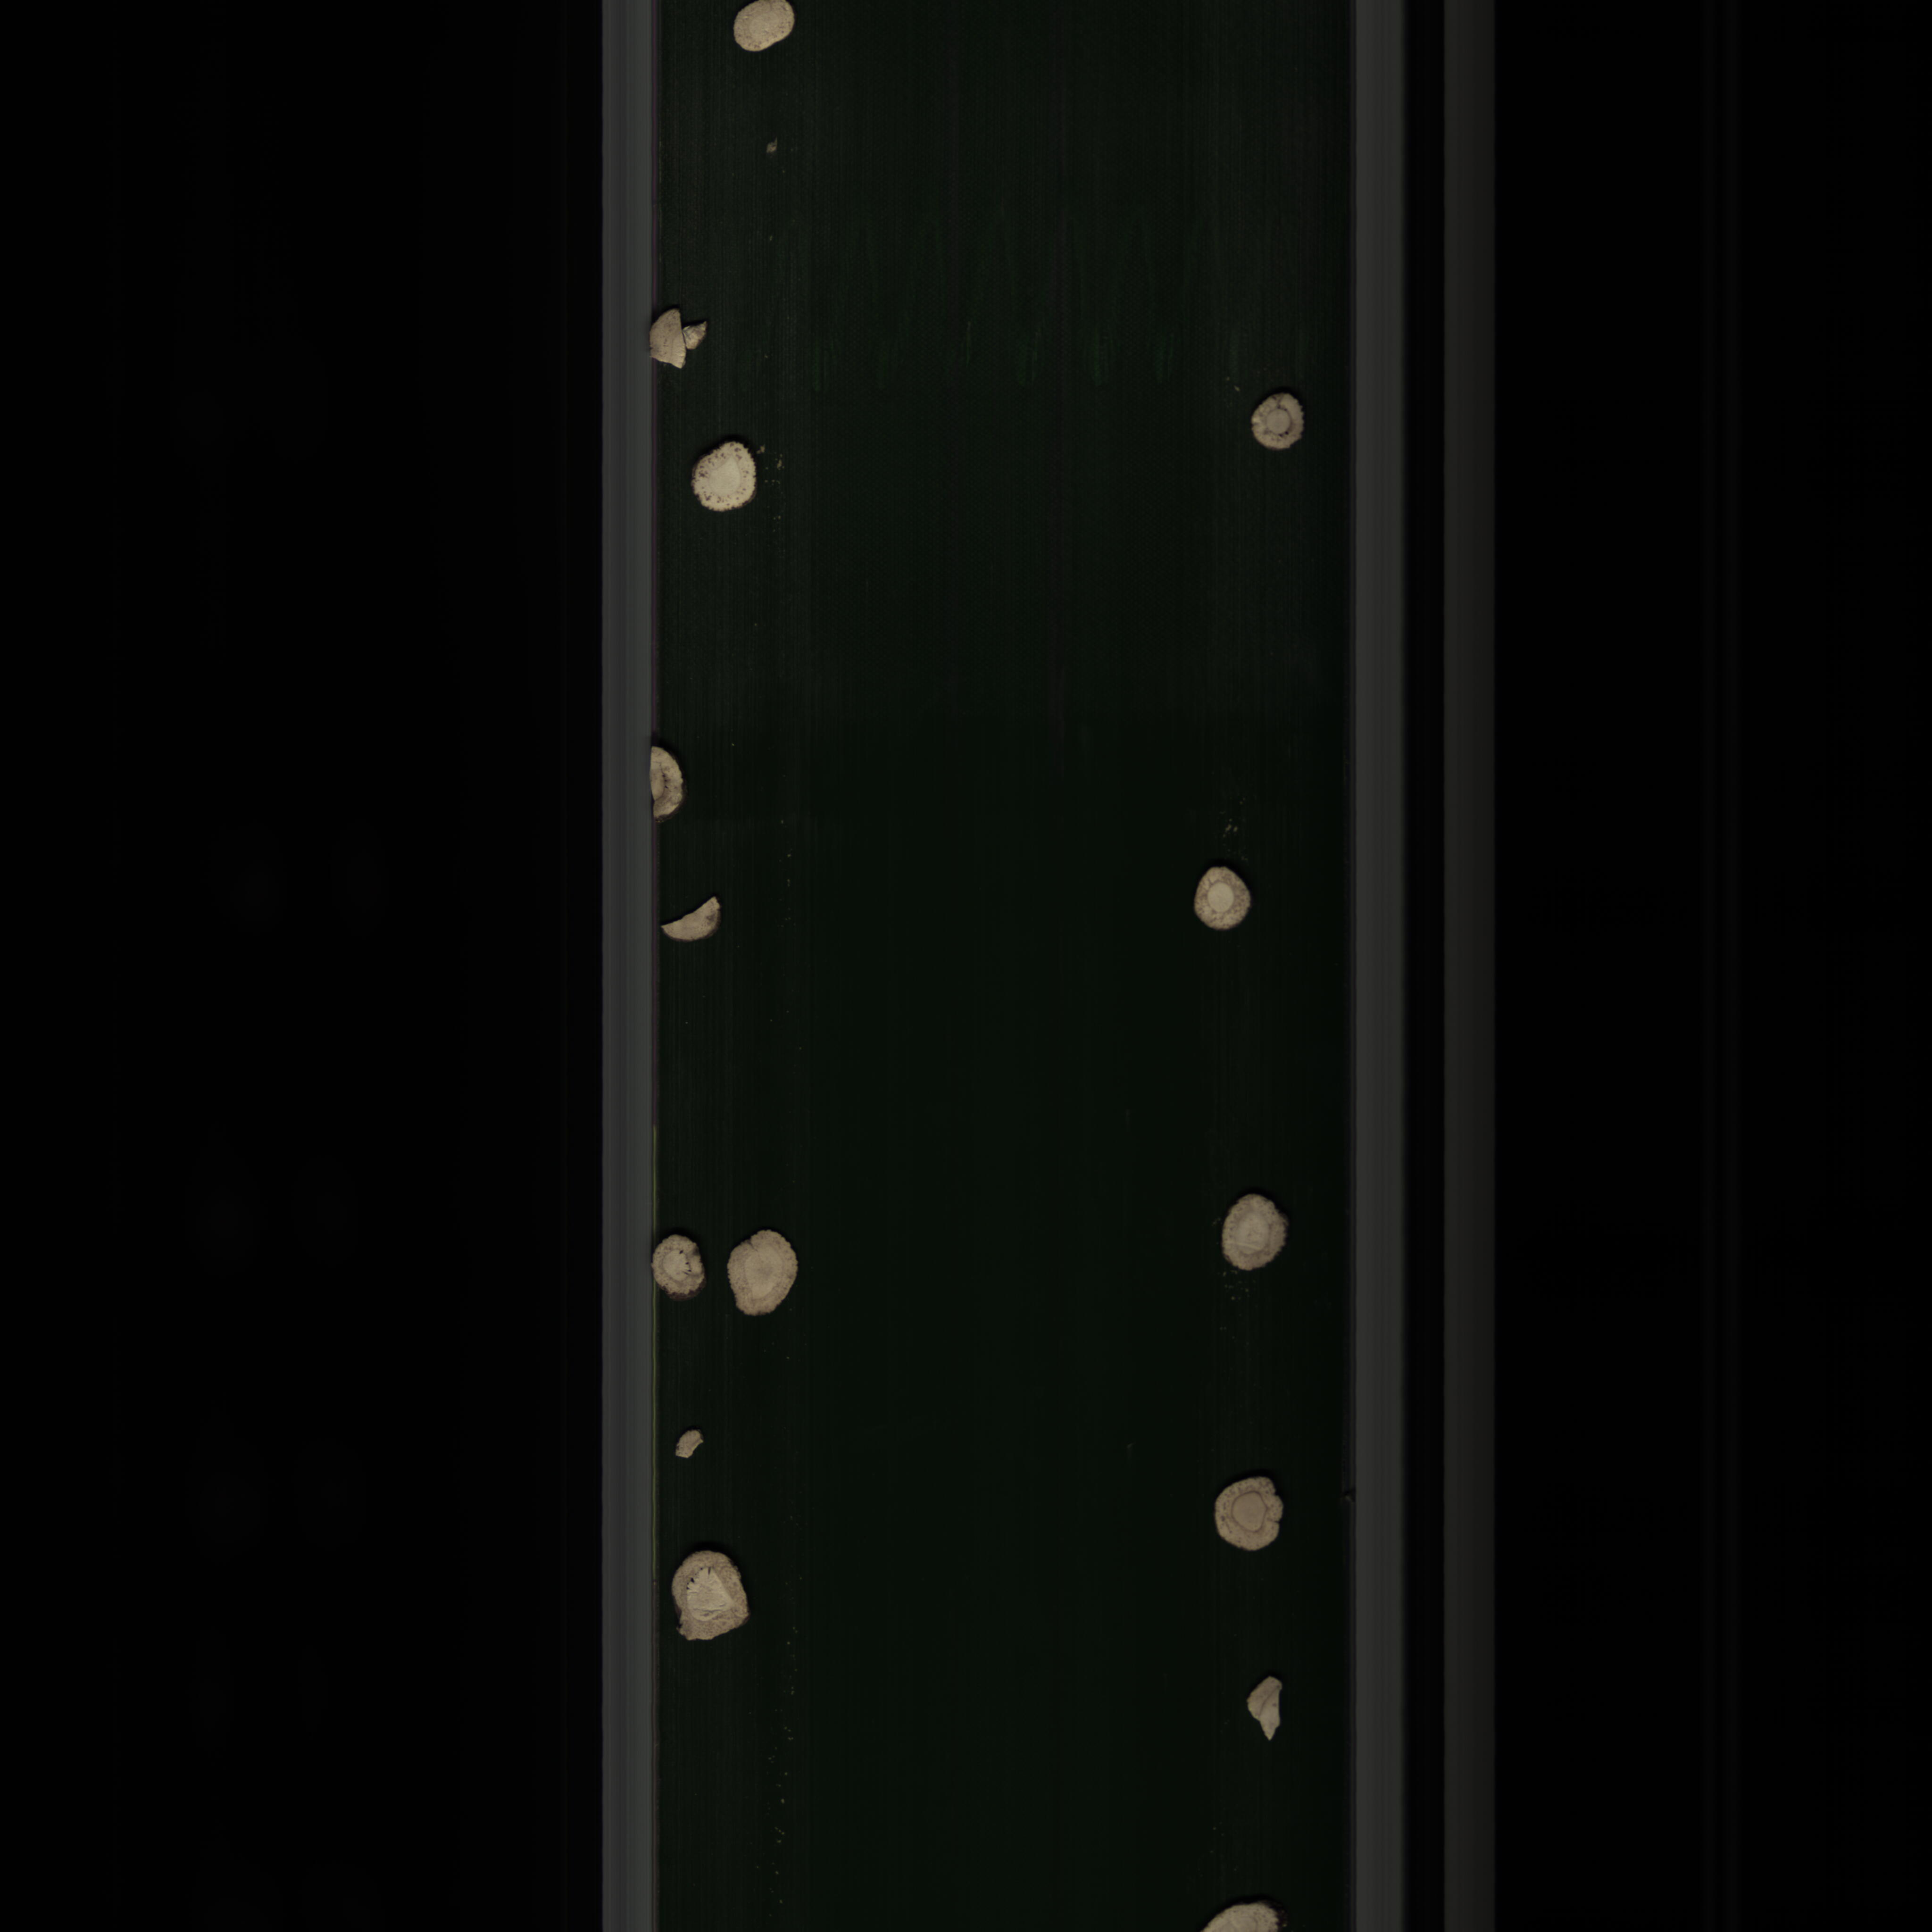debris: (644, 301, 724, 380), (642, 890, 731, 954), (1242, 1667, 1300, 1753), (635, 743, 695, 826), (656, 1419, 706, 1465)
hole: (648, 1223, 715, 1306)
